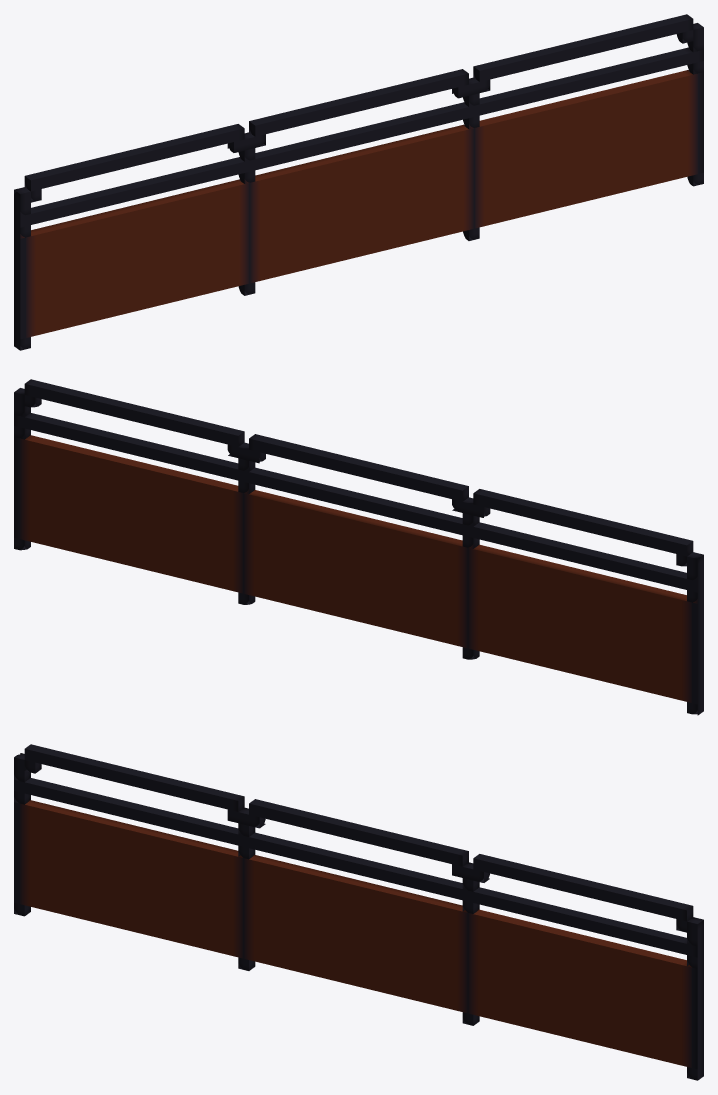
The model's file is PLOTEK_3_RAZY.dae.
The picture shows the model from 3 angles, top to bottom: view 1: azimuth 30°, elevation 25°; view 2: azimuth 150°, elevation 25°; view 3: azimuth 330°, elevation 25°; orthographic projection.
Parts seen in each view (by area): view 1: Content; view 2: Content; view 3: Content.
Part boxes in pixels (x1,y1,x2,y2): Content: (14, 14, 703, 350); Content: (14, 379, 703, 715); Content: (14, 744, 703, 1080).
Size of the model in its own units: 64 by 15 by 1.
Materials: 1 (1 with a texture image).
